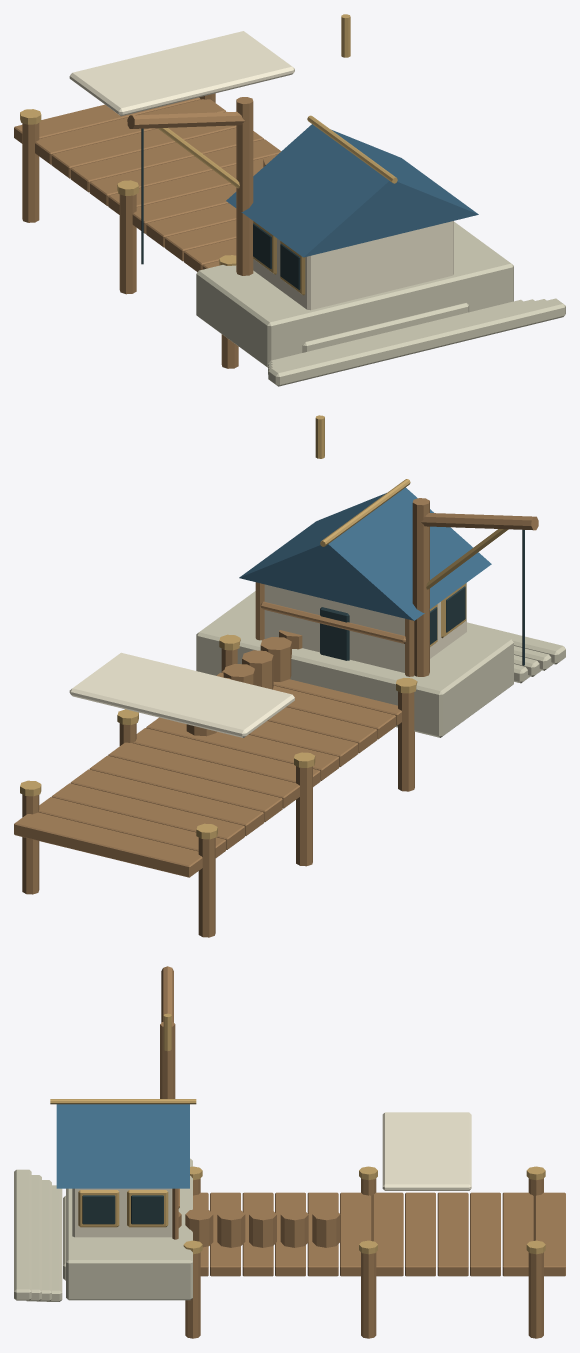
The model's file is level_28.glb.
3 views of the same model, one above another, from view 1: azimuth 30°, elevation 25°; view 2: azimuth 150°, elevation 25°; view 3: azimuth 270°, elevation 25° (orthographic). The views are drawn at different scales.
Parts seen in each view (by area): view 1: fishing_wharf — level 28; view 2: fishing_wharf — level 28; view 3: fishing_wharf — level 28.
Boxes of the visible parts, x1,y1,x2,y2 form: fishing_wharf — level 28: (14,14,565,386); fishing_wharf — level 28: (14,415,565,937); fishing_wharf — level 28: (14,966,565,1338).
Bounding box in the file's own units: 5.45 × 5.01 × 8.69.
